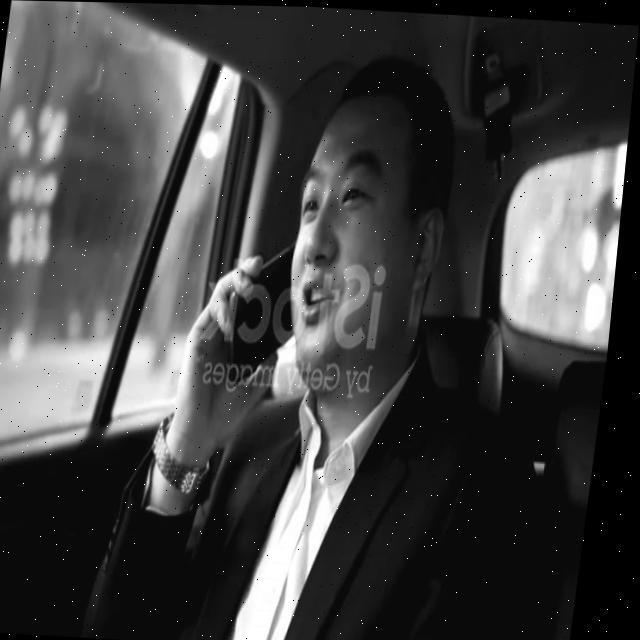PhoneCall: (226, 238, 307, 389)
